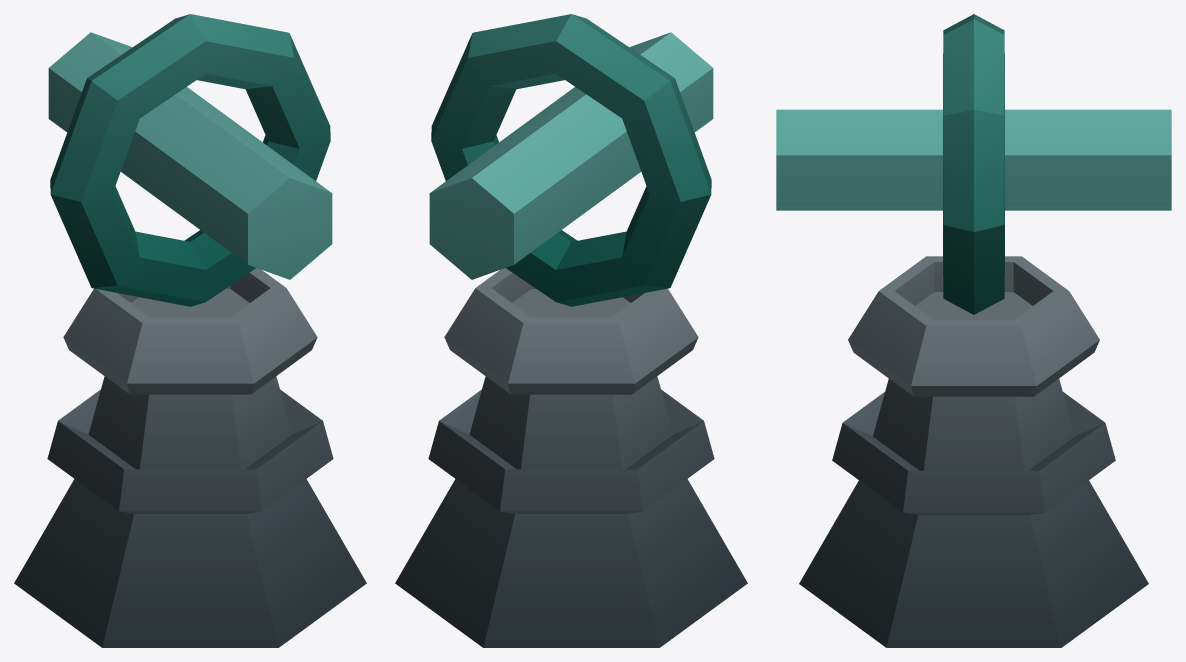
The model's file is Monu 2.fbx.
3 renders of one model, left to right at view 1: azimuth 30°, elevation 25°; view 2: azimuth 150°, elevation 25°; view 3: azimuth 270°, elevation 25°, orthographic.
Visible parts, largest first — view 1: Monu 2; view 2: Monu 2; view 3: Monu 2.
Part boxes in pixels (x1,y1,x2,y2): Monu 2: (14,14,366,647); Monu 2: (395,14,747,647); Monu 2: (776,14,1171,647).
Size of the model in its own units: 81.2 by 158 by 100.
